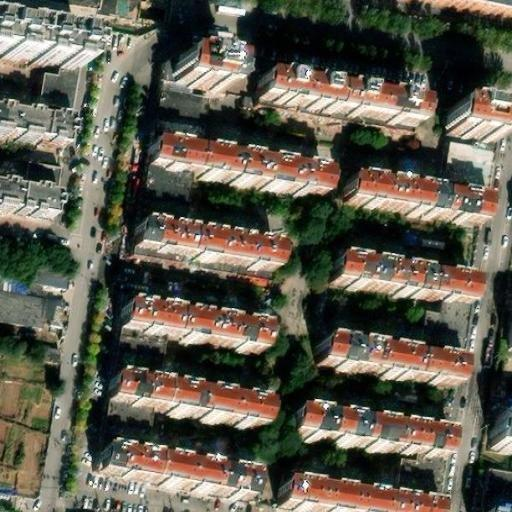building: (142, 137, 327, 195), (249, 78, 414, 131), (95, 446, 252, 499), (105, 376, 268, 427), (284, 404, 445, 455), (129, 220, 280, 271), (118, 302, 265, 353), (326, 253, 474, 303), (314, 335, 459, 383), (341, 173, 483, 219), (273, 478, 435, 512), (0, 31, 76, 73), (0, 89, 57, 131), (136, 169, 193, 207), (172, 61, 226, 97), (443, 109, 496, 143), (0, 165, 46, 200), (0, 290, 46, 325), (479, 469, 512, 512), (490, 417, 512, 451), (31, 339, 54, 356)
